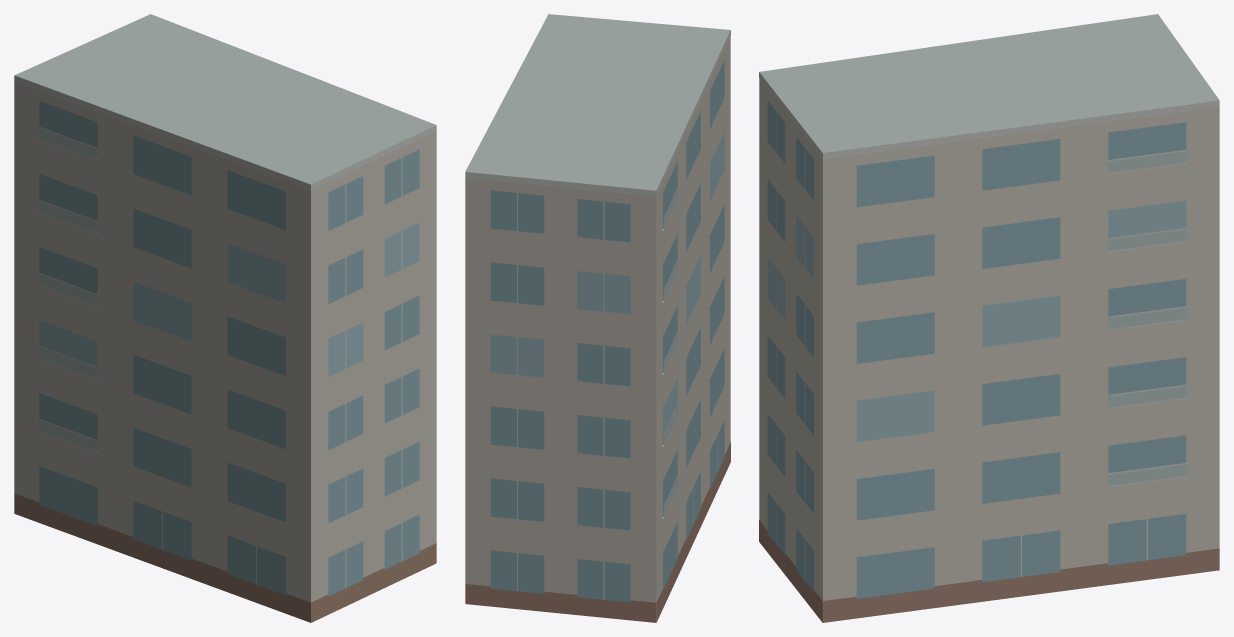
File: survey-upis-32977782.glb
The picture shows the model from 3 angles, left to right: view 1: azimuth 30°, elevation 25°; view 2: azimuth 150°, elevation 25°; view 3: azimuth 270°, elevation 25°; orthographic projection. The views are drawn at different scales.
Visible parts, largest first — view 1: survey-upis-32977782.tmp; view 2: survey-upis-32977782.tmp; view 3: survey-upis-32977782.tmp.
Part boxes in pixels (left/top/right/bottom): survey-upis-32977782.tmp: left=14, top=14, right=436, bottom=622; survey-upis-32977782.tmp: left=465, top=14, right=730, bottom=622; survey-upis-32977782.tmp: left=759, top=14, right=1219, bottom=622.
Bounding box in the file's own units: 11.31 × 17.8 × 15.82.
